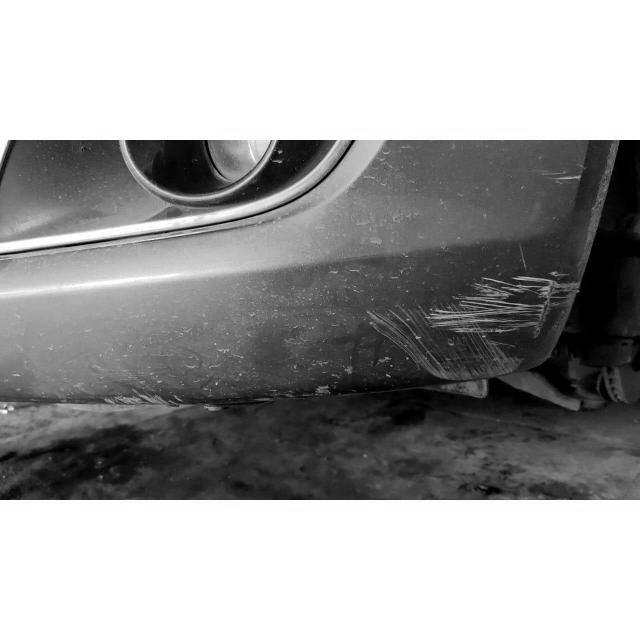front-bumper-dent: (267, 140, 618, 406)
